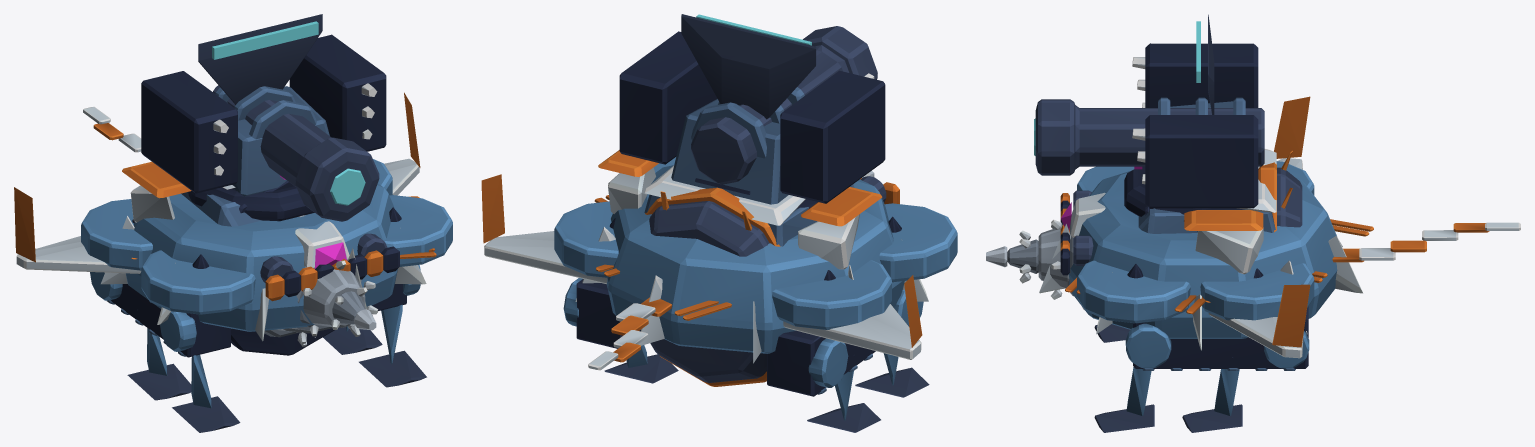
File: frost.glb
The picture shows the model from 3 angles, left to right: view 1: azimuth 30°, elevation 25°; view 2: azimuth 150°, elevation 25°; view 3: azimuth 270°, elevation 25°; orthographic projection. The views are drawn at different scales.
Visible parts, largest first — view 1: cryo_battery_body, frostwalker_body, minelayer_body, borer_body, glider_body, frostwalker_glow, cryo_battery_glow, sled_body; view 2: cryo_battery_body, frostwalker_body, borer_body, minelayer_body, glider_body, cryo_battery_glow, sled_body; view 3: cryo_battery_body, frostwalker_body, minelayer_body, borer_body, glider_body, sled_body.
Part boxes in pixels (x1,y1,x2,y2): cryo_battery_body: (101, 14, 426, 341); frostwalker_body: (122, 85, 426, 432); minelayer_body: (81, 159, 452, 314); borer_body: (90, 181, 420, 357); glider_body: (14, 92, 420, 273); frostwalker_glow: (314, 168, 365, 268); cryo_battery_glow: (212, 21, 318, 179); sled_body: (260, 233, 387, 282); cryo_battery_body: (575, 14, 928, 363); frostwalker_body: (598, 26, 929, 432); borer_body: (563, 170, 923, 396); minelayer_body: (554, 157, 957, 329); glider_body: (481, 174, 922, 370); cryo_battery_glow: (696, 14, 811, 45); sled_body: (660, 176, 886, 230); cryo_battery_body: (1039, 14, 1362, 350); frostwalker_body: (1035, 97, 1276, 432); minelayer_body: (1065, 161, 1373, 323); borer_body: (986, 162, 1309, 370); glider_body: (1205, 96, 1520, 358); sled_body: (1073, 151, 1292, 265).
Bounding box in the file's own units: 14.4 × 11.77 × 17.05.
